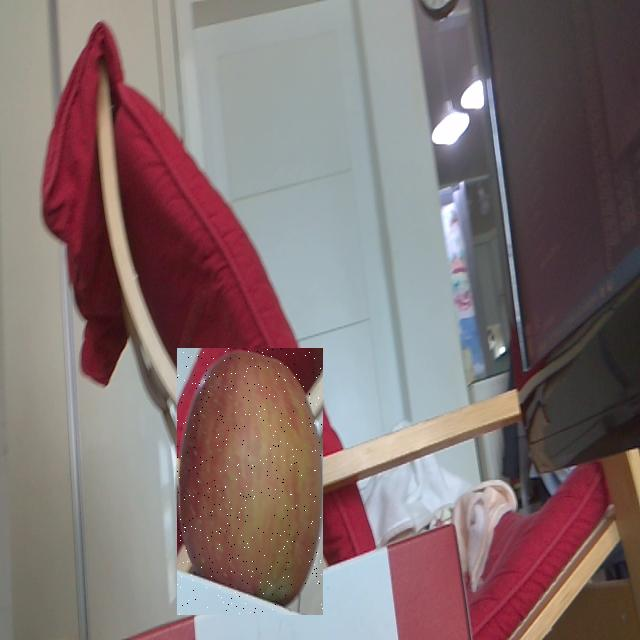apple: (177, 348, 323, 615)
